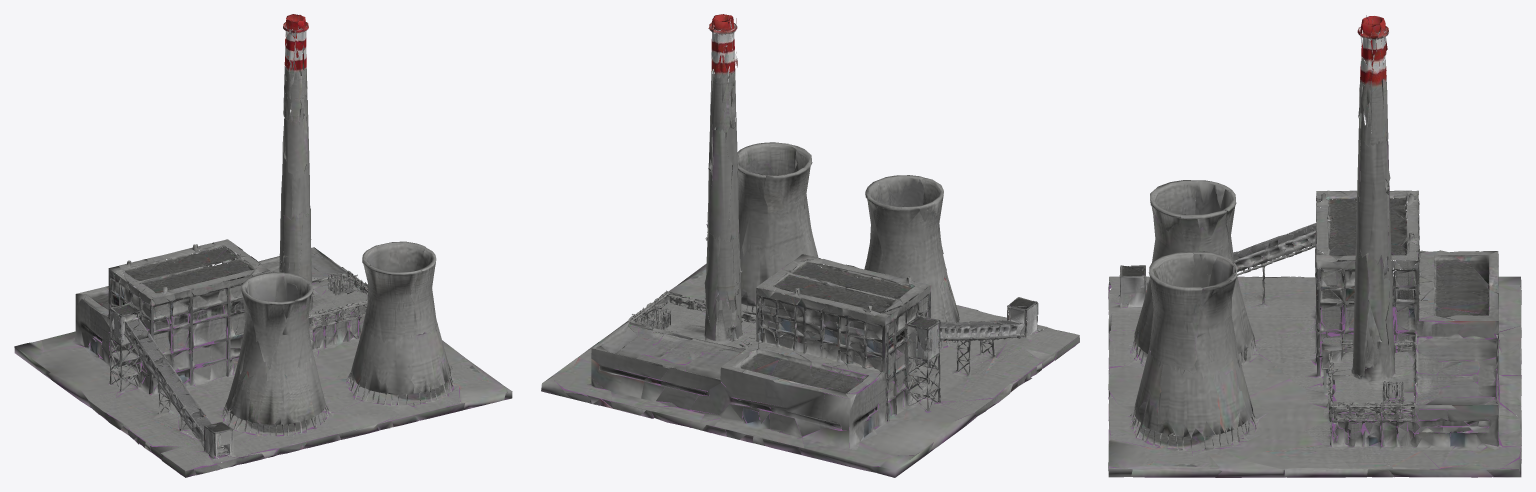
Rendered from coal-plant.glb.
3 views of the same model, side by side, from view 1: azimuth 30°, elevation 25°; view 2: azimuth 150°, elevation 25°; view 3: azimuth 270°, elevation 25° (orthographic). The views are drawn at different scales.
Parts seen in each view (by area): view 1: Mesh_0; view 2: Mesh_0; view 3: Mesh_0.
Part boxes in pixels (bbox=[...]): Mesh_0: bbox=[14, 14, 512, 477]; Mesh_0: bbox=[541, 14, 1079, 477]; Mesh_0: bbox=[1108, 15, 1521, 477].
Size of the model in its own units: 14.67 by 13.99 by 13.26.
Materials: 1 (1 with a texture image).
